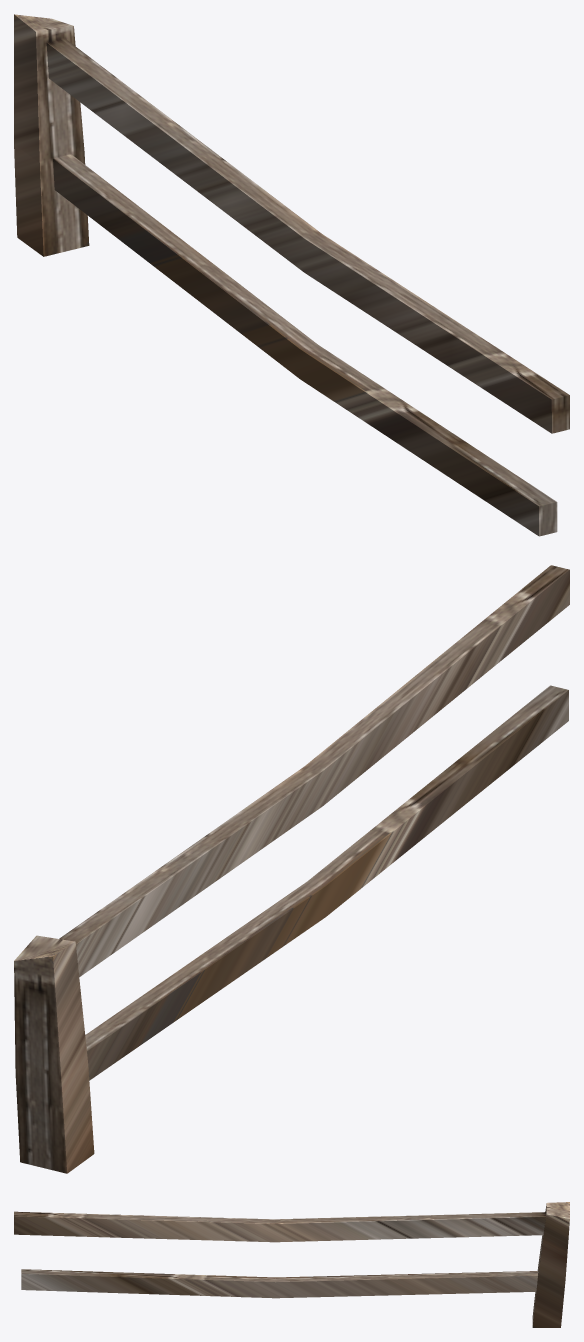
File: start_fence_07.glb
3 renders of one model, top to bottom at view 1: azimuth 30°, elevation 25°; view 2: azimuth 150°, elevation 25°; view 3: azimuth 270°, elevation 25°, orthographic. The views are drawn at different scales.
Parts seen in each view (by area): view 1: start_fence_07_game; view 2: start_fence_07_game; view 3: start_fence_07_game.
Part boxes in pixels (x1,y1,x2,y2): start_fence_07_game: (14, 14, 569, 536); start_fence_07_game: (14, 565, 569, 1173); start_fence_07_game: (14, 1202, 569, 1327).
Size of the model in its own units: 0.2392 by 1.08 by 4.7.
Materials: 1 (1 with a texture image).
